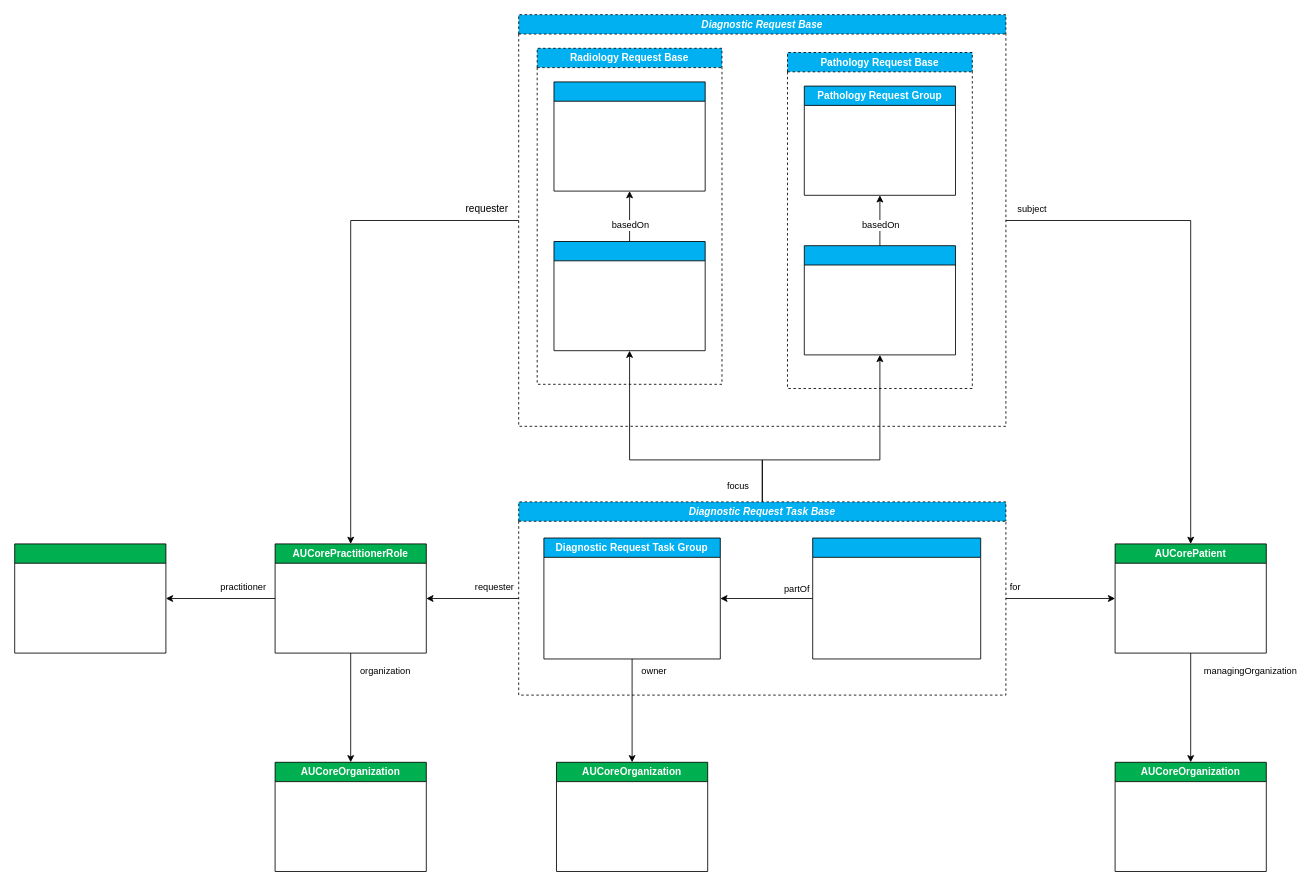
Some shapes in this 1311 by 886 pixel diagram are drawn without their labels. Each missing label, with the centre of its shape:
"AUCorePractitioner" belongs at (x=90, y=598).
"Diagnostic Request Task" belongs at (x=896, y=598).
"Pathology Request" belongs at (x=879, y=300).
"Radiology Request" belongs at (x=629, y=296).
"Radiology Request Group" belongs at (x=629, y=136).
